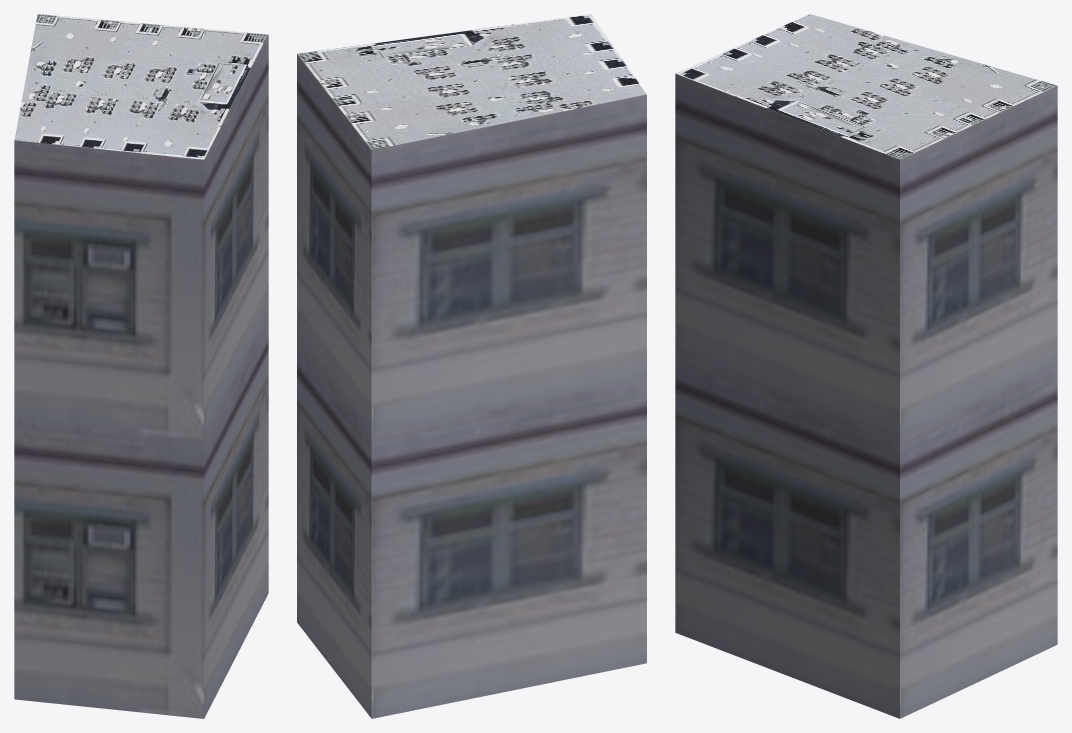
File: ResTex__2310.fbx
3 views of the same model, side by side, from view 1: azimuth 30°, elevation 25°; view 2: azimuth 150°, elevation 25°; view 3: azimuth 270°, elevation 25° (orthographic).
Parts seen in each view (by area): view 1: CityEngineMaterial_1_m, CityEngineMaterial_m; view 2: CityEngineMaterial_1_m, CityEngineMaterial_m; view 3: CityEngineMaterial_1_m, CityEngineMaterial_m.
Boxes of the visible parts, x1,y1,x2,y2 form: CityEngineMaterial_1_m: (14,35,268,718); CityEngineMaterial_m: (14,14,267,159); CityEngineMaterial_1_m: (297,54,646,718); CityEngineMaterial_m: (297,14,646,149); CityEngineMaterial_1_m: (675,73,1057,718); CityEngineMaterial_m: (676,14,1056,159).
Bounding box in the file's own units: 3.36 × 6 × 3.72.
Materials: 2 (2 with a texture image).
